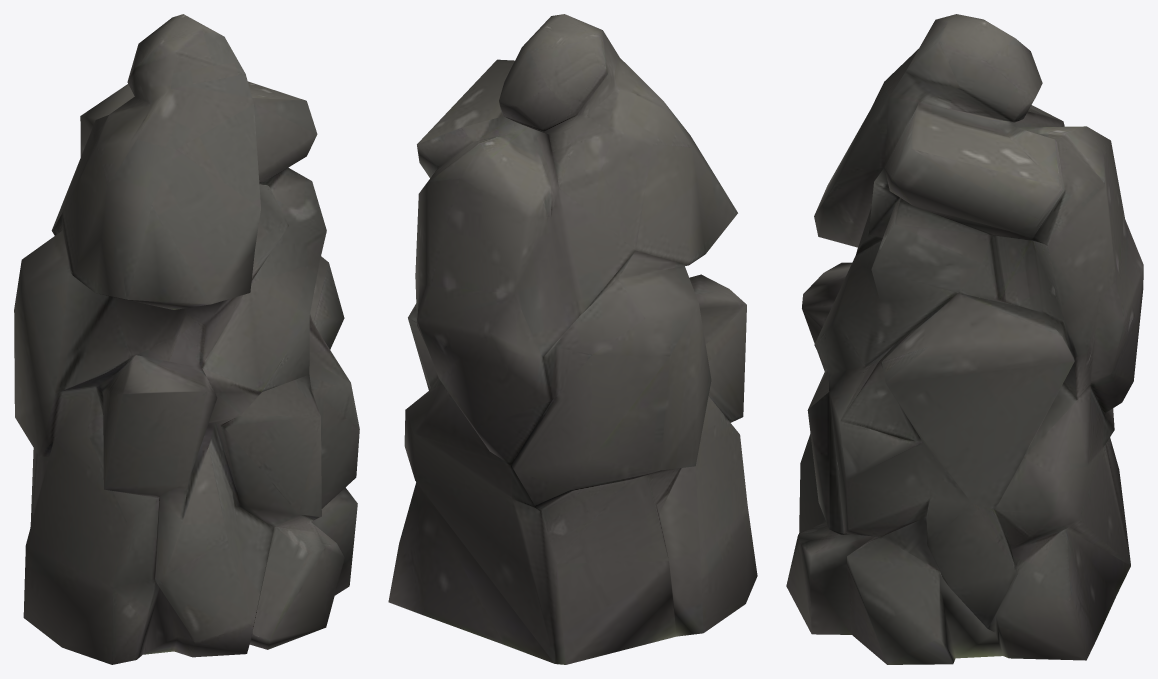
File: rock-outcrop-01.glb
3 views of the same model, side by side, from view 1: azimuth 30°, elevation 25°; view 2: azimuth 150°, elevation 25°; view 3: azimuth 270°, elevation 25° (orthographic). The views are drawn at different scales.
Bounding box in the file's own units: 0.4907 × 0.9521 × 0.5288.
Materials: 1 (1 with a texture image).
